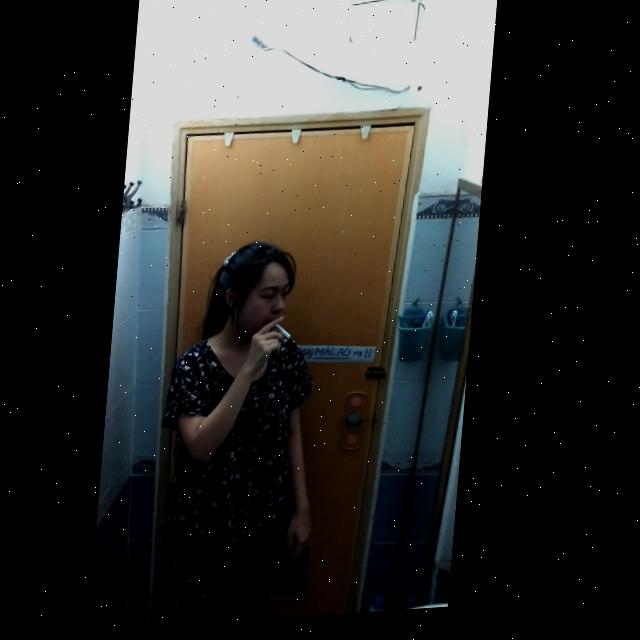cigarette: (281, 327, 298, 345)
